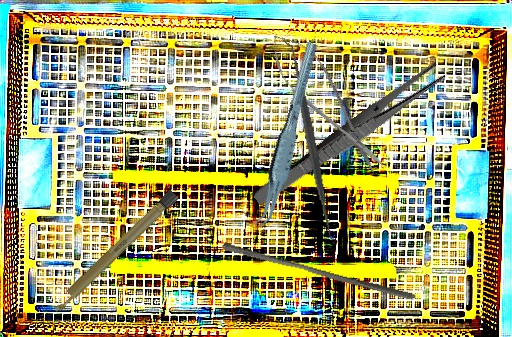Dressing Forceps: (250, 59, 448, 212)
Micro Scissor: (257, 22, 396, 183)
Pusher: (219, 241, 419, 302)
Scalpel Handle: (48, 188, 180, 316)
Spatula Surgical: (279, 34, 342, 247)
Tissue Forceps: (234, 40, 340, 233)
